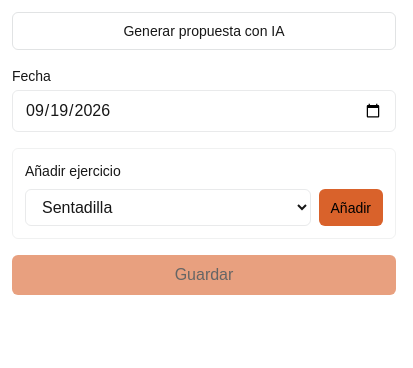
SessionForm › muestra un aviso discreto y deja el formulario manual intacto cuando la generación falla
Click the button "Generar propuesta con IA" at (204, 31), box [12,12,396,50]
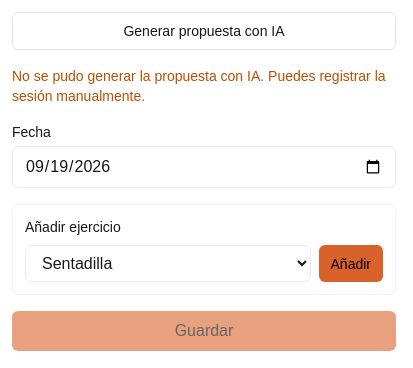
Expected: the button "Guardar" is disabled, [12,311,396,351]
Now the text "No se pudo generar la propuesta con IA" is shown, box [12,68,386,104]
